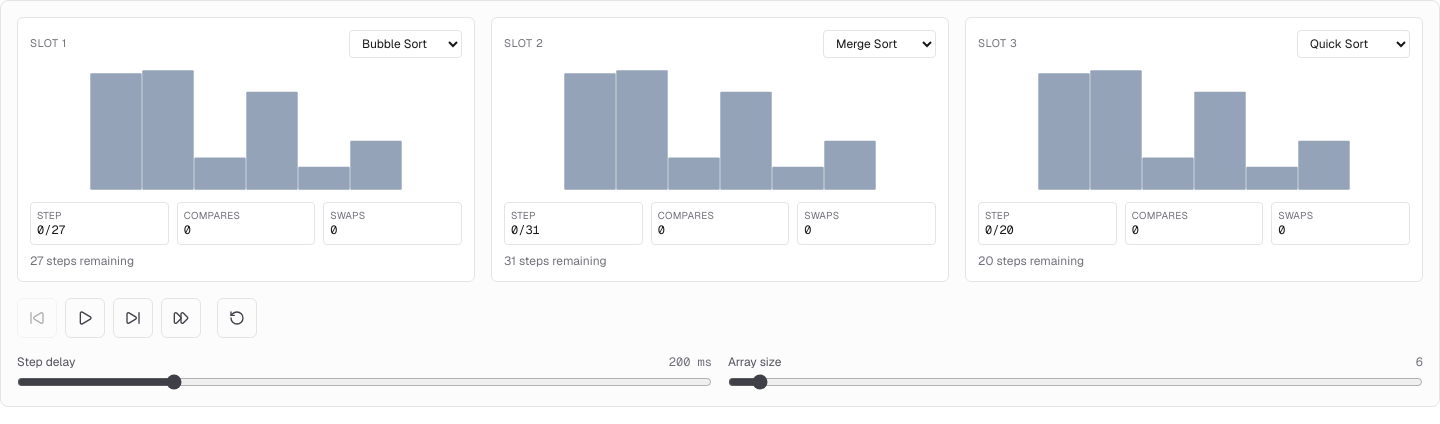
Test: RaceViz › step forward advances every slot's step counter by one
This screenshot has width=1440, height=424.
Click the button named "Step forward": point(133, 318) [113,298,153,338]
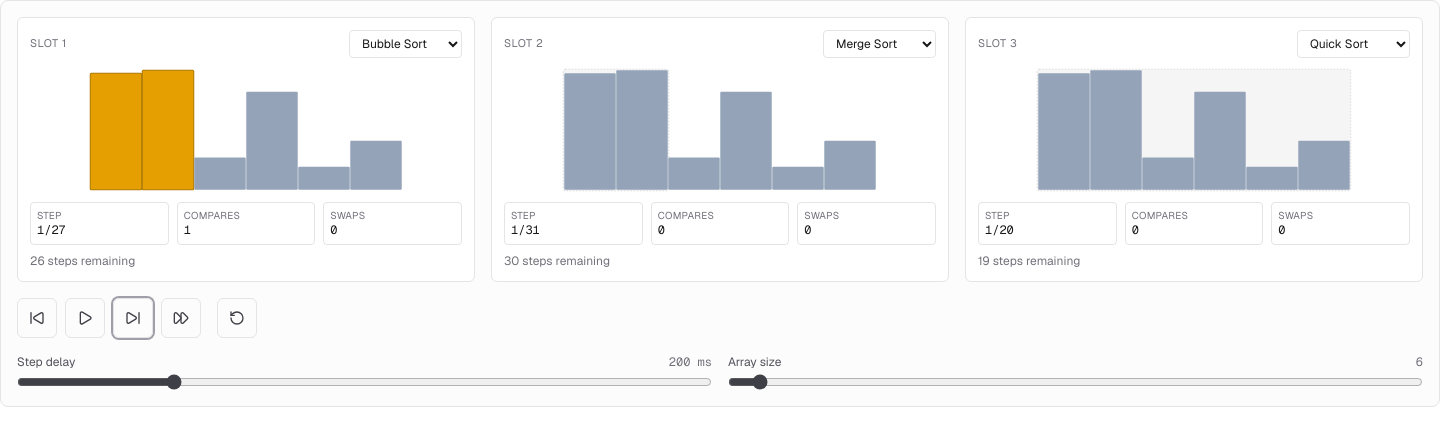
Now the list item with aria-label "race slot" reads "Slot 1 Step 1/27 Compares 1 Swaps 0 26 steps remaining", box [17,17,475,282]
Now the list item with aria-label "race slot" reads "Slot 2 Step 1/31 Compares 0 Swaps 0 30 steps remaining", box [491,17,949,282]
Now the list item with aria-label "race slot" reads "Slot 3 Step 1/20 Compares 0 Swaps 0 19 steps remaining", box [965,17,1423,282]
